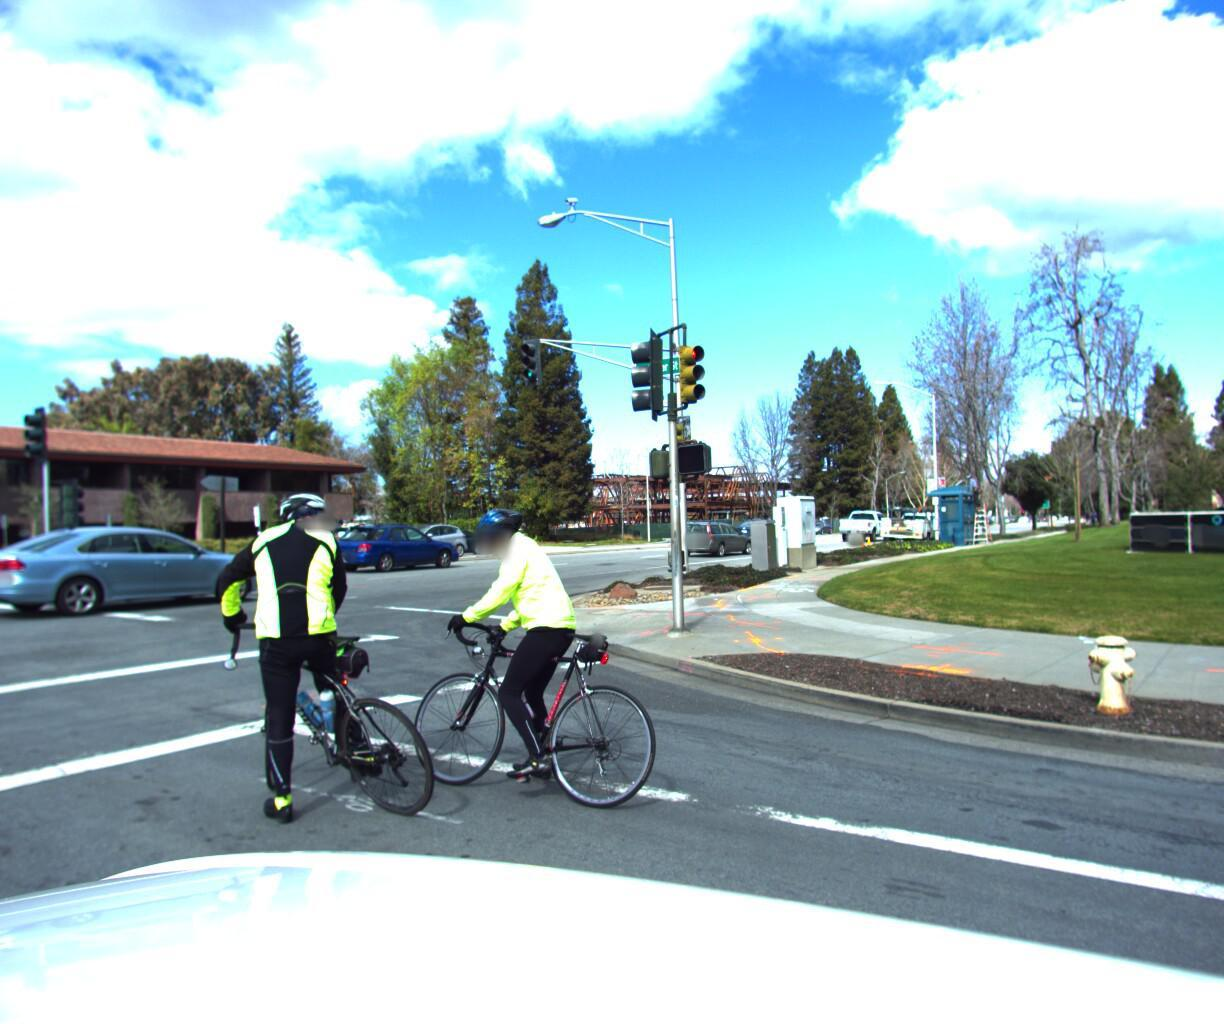bicycle: (174, 468, 470, 885), (383, 494, 694, 834)
car: (0, 525, 288, 622), (332, 522, 474, 576), (375, 523, 474, 564), (673, 520, 764, 561), (408, 531, 492, 562), (835, 514, 898, 544), (729, 520, 792, 547)
